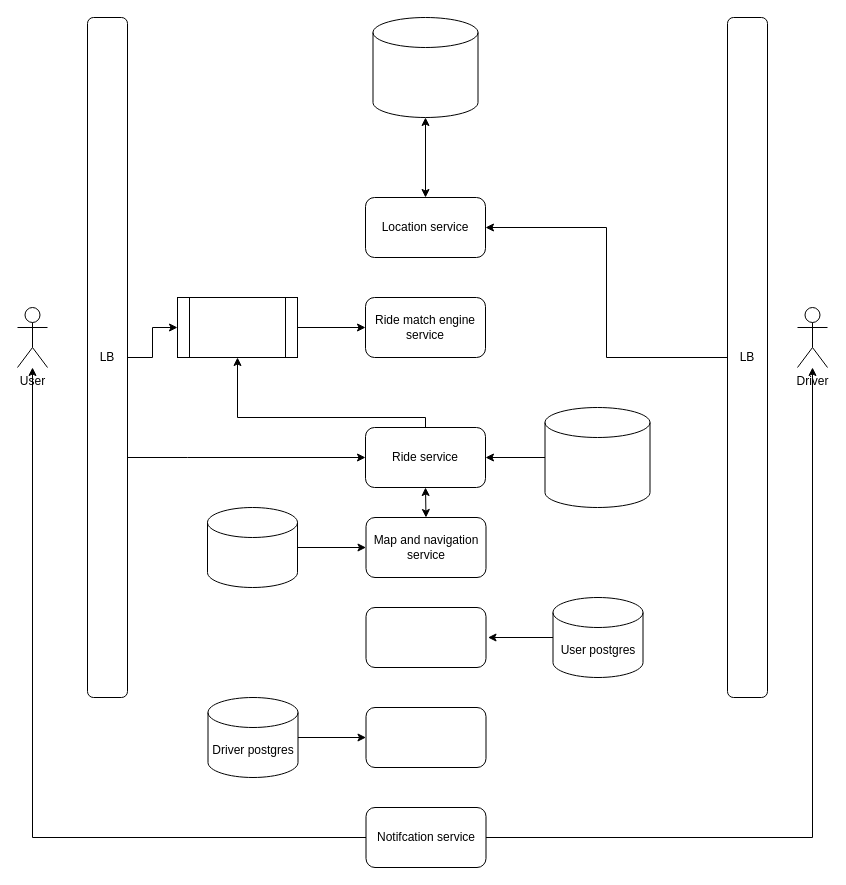
This 846x885 diagram has some shape labels left out. Each missing label, with the centre of its shape:
"Cost estimate ML model" belongs at point 252,547.
"Driver service" belongs at point 425,737.
"Redis geospatial index" belongs at point 425,67.
"Ride DDB" belongs at point 597,457.
"Ride request queue" belongs at point 237,327.
"User service" belongs at point 425,637.
